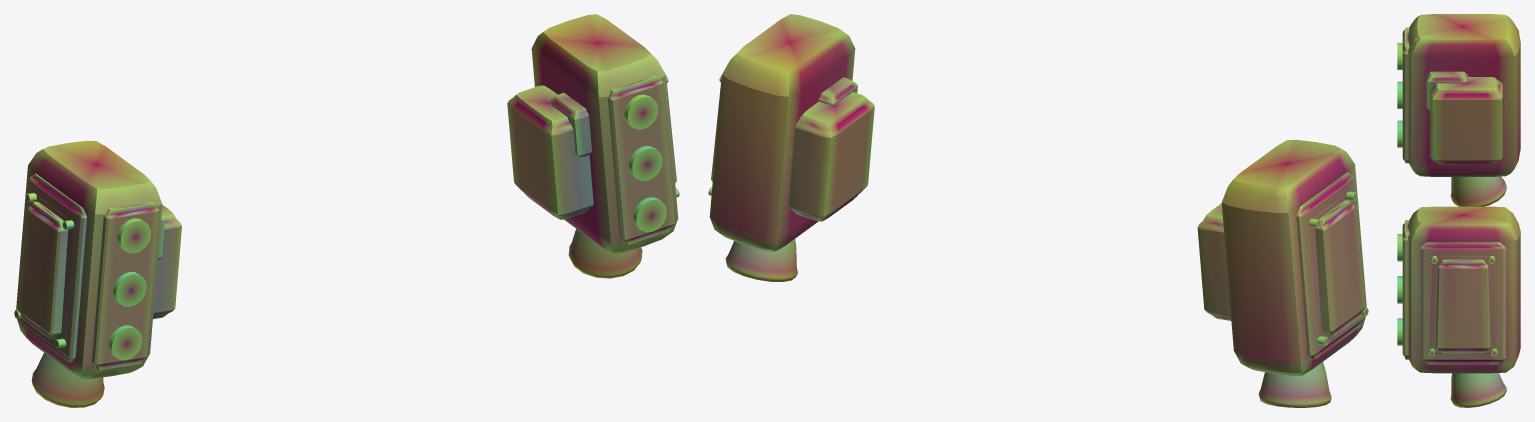
File: llm_gen_leg_thrusters_082_364dca.glb
3 renders of one model, left to right at view 1: azimuth 30°, elevation 25°; view 2: azimuth 150°, elevation 25°; view 3: azimuth 270°, elevation 25°, orthographic. The views are drawn at different scales.
Visible parts, largest first — view 1: leg_missile_hull_0_crimson_gloss_r, leg_missile_hull_0_crimson_gloss_l, adapter_calf_clamp_r, leg_pod_armor_cover_6_adapter_dark_l, adapter_sub_missile_bezel_dark_1_adapter_dark_l, adapter_sub_missile_bezel_dark_1_adapter_dark_r, adapter_sub_side_frame_dark_5_adapter_dark_l, leg_ankle_bell_7_vernier_bell_vernier_l, leg_ankle_bell_7_vernier_bell_vernier_r, adapter_calf_clamp_l, adapter_leg_knee_mount_dark_8_adapter_dark_r, leg_cell_top_2_gold_l (+5 smaller); view 2: leg_missile_hull_0_crimson_gloss_r, leg_missile_hull_0_crimson_gloss_l, adapter_calf_clamp_r, leg_pod_armor_cover_6_adapter_dark_l, adapter_sub_side_frame_dark_5_adapter_dark_l, adapter_calf_clamp_l, leg_ankle_bell_7_vernier_bell_vernier_l, leg_ankle_bell_7_vernier_bell_vernier_r, adapter_leg_knee_mount_dark_8_adapter_dark_r; view 3: leg_missile_hull_0_crimson_gloss_l, leg_missile_hull_0_crimson_gloss_r, leg_pod_armor_cover_6_adapter_dark_r, adapter_calf_clamp_l, adapter_sub_side_frame_dark_5_adapter_dark_r, leg_ankle_bell_7_vernier_bell_vernier_r, leg_ankle_bell_7_vernier_bell_vernier_l, adapter_sub_missile_bezel_dark_1_adapter_dark_r, adapter_sub_missile_bezel_dark_1_adapter_dark_l, adapter_leg_knee_mount_dark_8_adapter_dark_l, leg_cell_top_2_gold_r, leg_cell_mid_3_gold_r (+4 smaller).
Boxes of the visible parts, x1,y1,x2,y2 form: leg_missile_hull_0_crimson_gloss_r: (531, 14, 678, 253); leg_missile_hull_0_crimson_gloss_l: (16, 140, 162, 378); adapter_calf_clamp_r: (507, 85, 593, 219); leg_pod_armor_cover_6_adapter_dark_l: (14, 192, 74, 348); adapter_sub_missile_bezel_dark_1_adapter_dark_l: (92, 201, 159, 369); adapter_sub_missile_bezel_dark_1_adapter_dark_r: (607, 75, 675, 244); adapter_sub_side_frame_dark_5_adapter_dark_l: (17, 173, 86, 362); leg_ankle_bell_7_vernier_bell_vernier_l: (31, 352, 104, 407); leg_ankle_bell_7_vernier_bell_vernier_r: (568, 229, 642, 278); adapter_calf_clamp_l: (153, 205, 181, 318); adapter_leg_knee_mount_dark_8_adapter_dark_r: (549, 92, 591, 157); leg_cell_top_2_gold_l: (117, 218, 151, 253); leg_missile_hull_0_crimson_gloss_r: (709, 14, 855, 251); leg_missile_hull_0_crimson_gloss_l: (1221, 139, 1366, 375); adapter_calf_clamp_r: (788, 92, 874, 221); leg_pod_armor_cover_6_adapter_dark_l: (1309, 191, 1368, 345); adapter_sub_side_frame_dark_5_adapter_dark_l: (1296, 172, 1365, 359); adapter_calf_clamp_l: (1197, 203, 1231, 320); leg_ankle_bell_7_vernier_bell_vernier_l: (1258, 362, 1331, 407); leg_ankle_bell_7_vernier_bell_vernier_r: (725, 239, 797, 281); adapter_leg_knee_mount_dark_8_adapter_dark_r: (818, 77, 857, 105); leg_missile_hull_0_crimson_gloss_l: (1408, 14, 1520, 176); leg_missile_hull_0_crimson_gloss_r: (1408, 206, 1520, 373); leg_pod_armor_cover_6_adapter_dark_r: (1428, 256, 1497, 356); adapter_calf_clamp_l: (1430, 77, 1502, 164); adapter_sub_side_frame_dark_5_adapter_dark_r: (1420, 242, 1505, 364); leg_ankle_bell_7_vernier_bell_vernier_r: (1450, 373, 1506, 407); leg_ankle_bell_7_vernier_bell_vernier_l: (1450, 176, 1506, 206); adapter_sub_missile_bezel_dark_1_adapter_dark_r: (1402, 220, 1409, 359); adapter_sub_missile_bezel_dark_1_adapter_dark_l: (1402, 27, 1409, 163); adapter_leg_knee_mount_dark_8_adapter_dark_l: (1426, 71, 1468, 110); leg_cell_top_2_gold_r: (1397, 234, 1402, 261); leg_cell_mid_3_gold_r: (1397, 276, 1402, 303).
Bounding box in the file's own units: 84.69 × 30.45 × 18.63.
